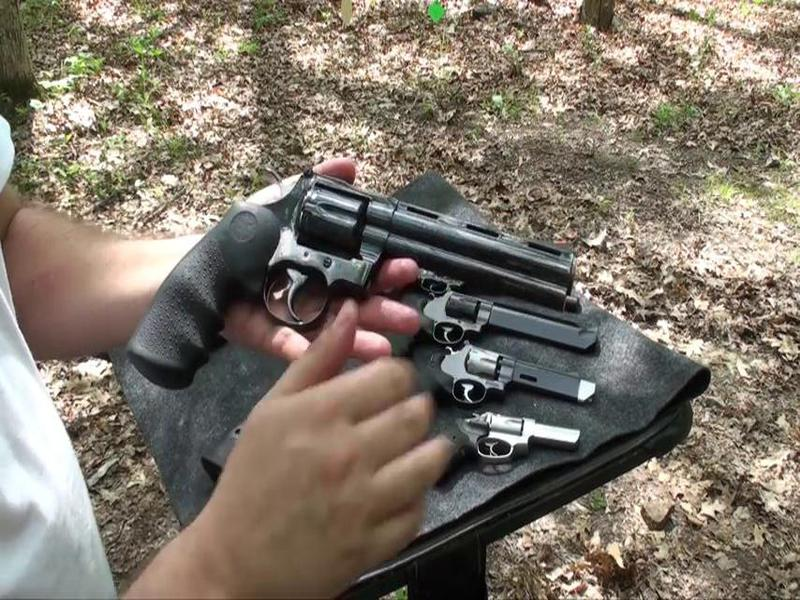Revolver: (148, 174, 568, 376)
